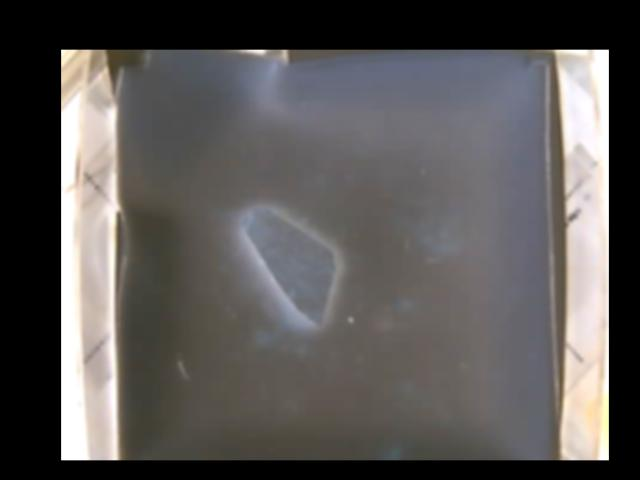China: (244, 206, 338, 320)
